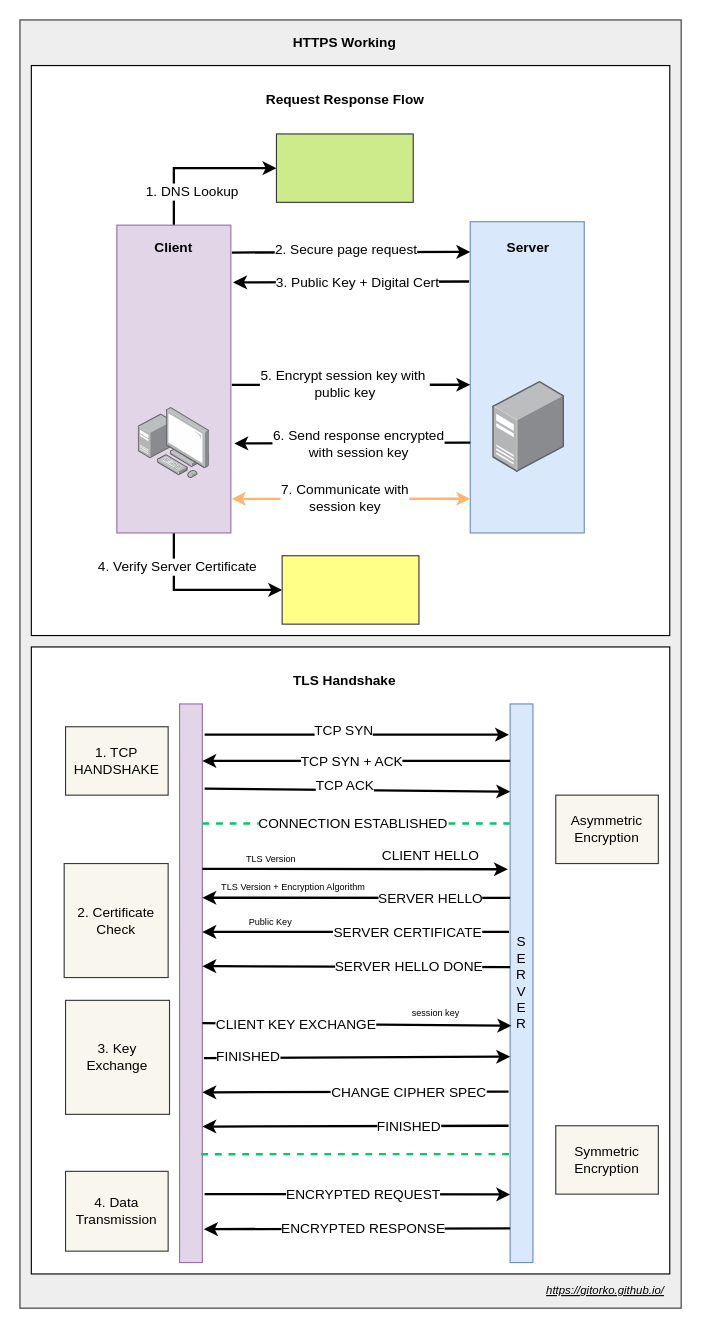
Some shapes in this 701 by 1328 pixel diagram are drawn without their labels. Here are the shapes that lost their labels. From the top down, the centre of each, then its label:
[344,167]: DNS
[350,589]: Certificate Authority
[190,983]: C L I E N T
